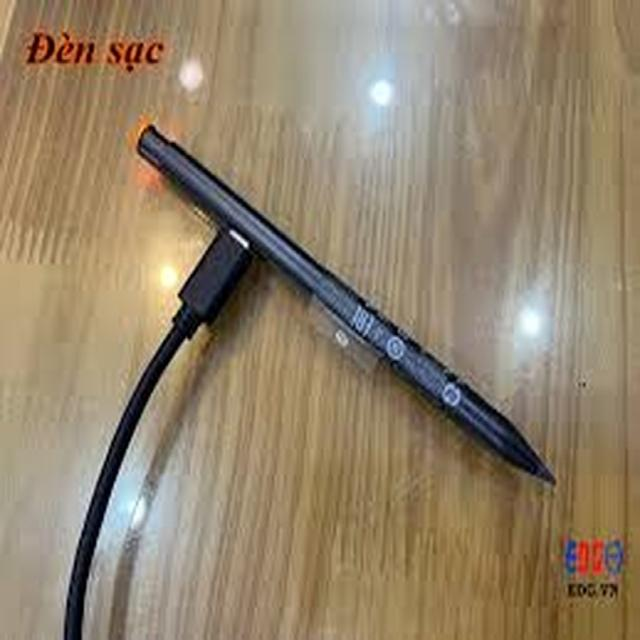pen: (21, 235, 558, 501), (545, 192, 569, 284)
